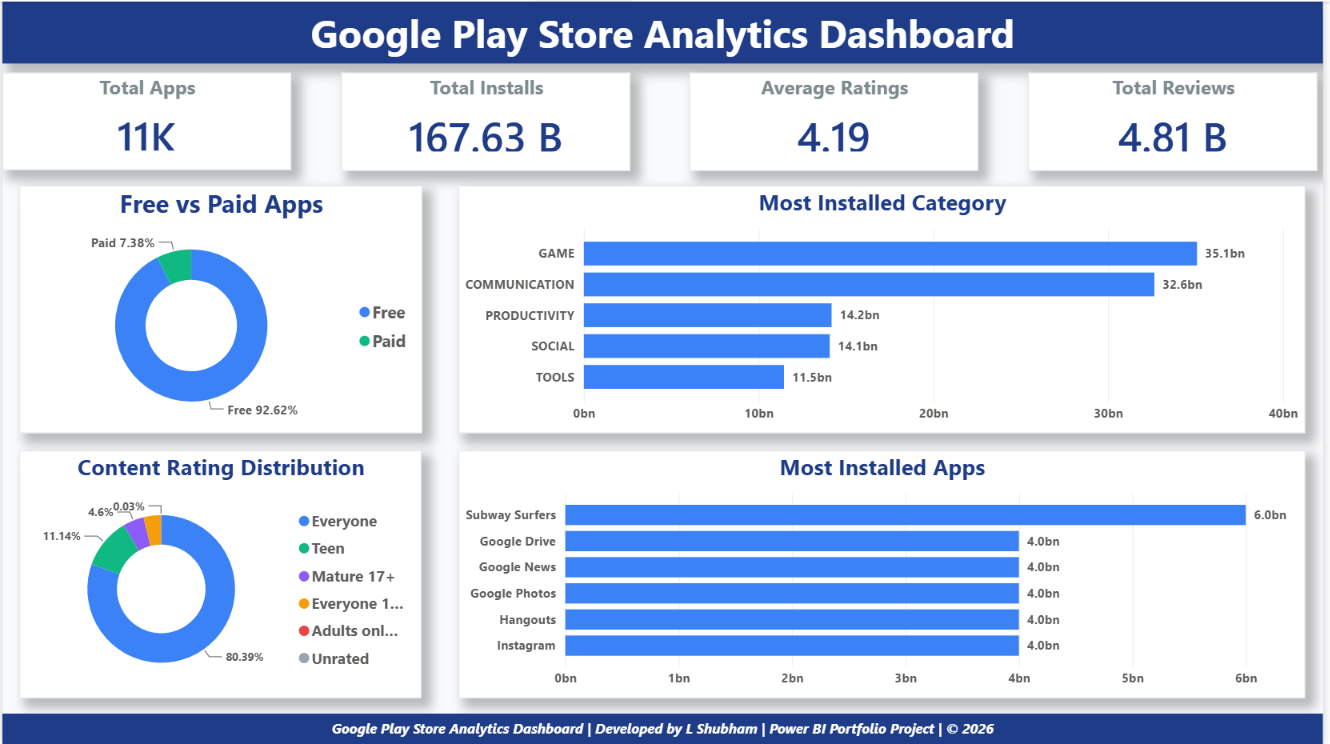

The page's visual inventory and layout, read from the dashboard file:
{"tool":"powerbi","page":{"name":"Excecutive Overview","canvas":[1280,720],"ordinal":0},"visuals":[{"type":"textbox","box":[0,0,1280.3,60.4],"z":0},{"type":"cardVisual","title":"Total Apps","fields":{"Data":["Measures .Total Apps"]},"box":[0,68.6,279.9,94.7],"z":1000},{"type":"cardVisual","title":"Total Installs","fields":{"Data":["Measures .Total Installs (B)"]},"box":[328.3,68.7,280,95],"z":2000},{"type":"cardVisual","title":"Total Reviews","fields":{"Data":["Measures .Total Reviews (B)"]},"box":[994.6,68.7,280,95],"z":3000},{"type":"cardVisual","title":"Average Ratings","fields":{"Data":["Measures .Average Ratings"]},"box":[665.5,68.7,280,95],"z":4000},{"type":"donutChart","title":"Free vs Paid Apps","fields":{"Category":["Apps.Type"],"Y":["CountNonNull(Apps.App)"]},"box":[16.5,178.4,390,240],"z":5000},{"type":"clusteredBarChart","title":"Most Installed Category","fields":{"Category":["Apps.Category"],"Y":["Sum(Apps.Installs)"]},"box":[441.9,178.4,820.6,240.1],"z":6000},{"type":"donutChart","title":"Content Rating Distribution","fields":{"Y":["CountNonNull(Apps.App)"],"Category":["Apps.Content Rating"]},"box":[16.5,435,389.7,240.1],"z":7000},{"type":"clusteredBarChart","title":"Most Installed Apps","fields":{"Category":["Apps.App"],"Y":["Sum(Apps.Installs)"]},"box":[441.9,435,820.6,240],"z":8000},{"type":"textbox","box":[0,689.8,1280.3,30.8],"z":9000}]}

Visuals, with their boxes in screenshot pixels (x1, y1, x2, y2), scaled from the page's 1280x720 canvas onto the 1330x744 screenshot:
textbox: <box>0,0,1329,62</box>
"Total Apps" cardVisual: <box>0,71,291,169</box>
"Total Installs" cardVisual: <box>341,71,632,169</box>
"Total Reviews" cardVisual: <box>1033,71,1324,169</box>
"Average Ratings" cardVisual: <box>691,71,982,169</box>
"Free vs Paid Apps" donutChart: <box>17,184,422,432</box>
"Most Installed Category" clusteredBarChart: <box>459,184,1312,432</box>
"Content Rating Distribution" donutChart: <box>17,450,422,698</box>
"Most Installed Apps" clusteredBarChart: <box>459,450,1312,698</box>
textbox: <box>0,713,1329,743</box>
